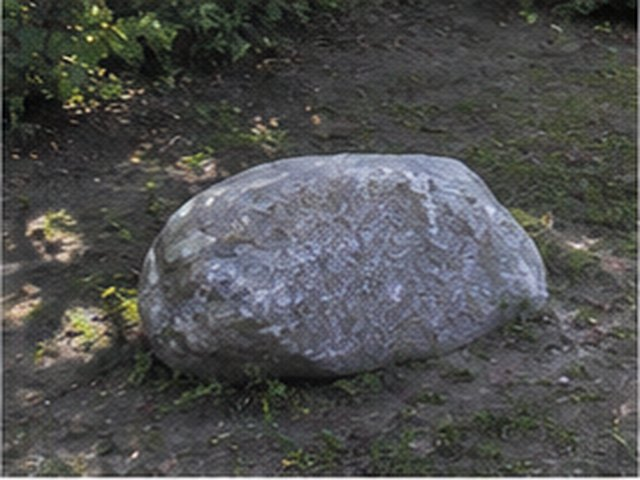tower: (139, 154, 546, 380)
